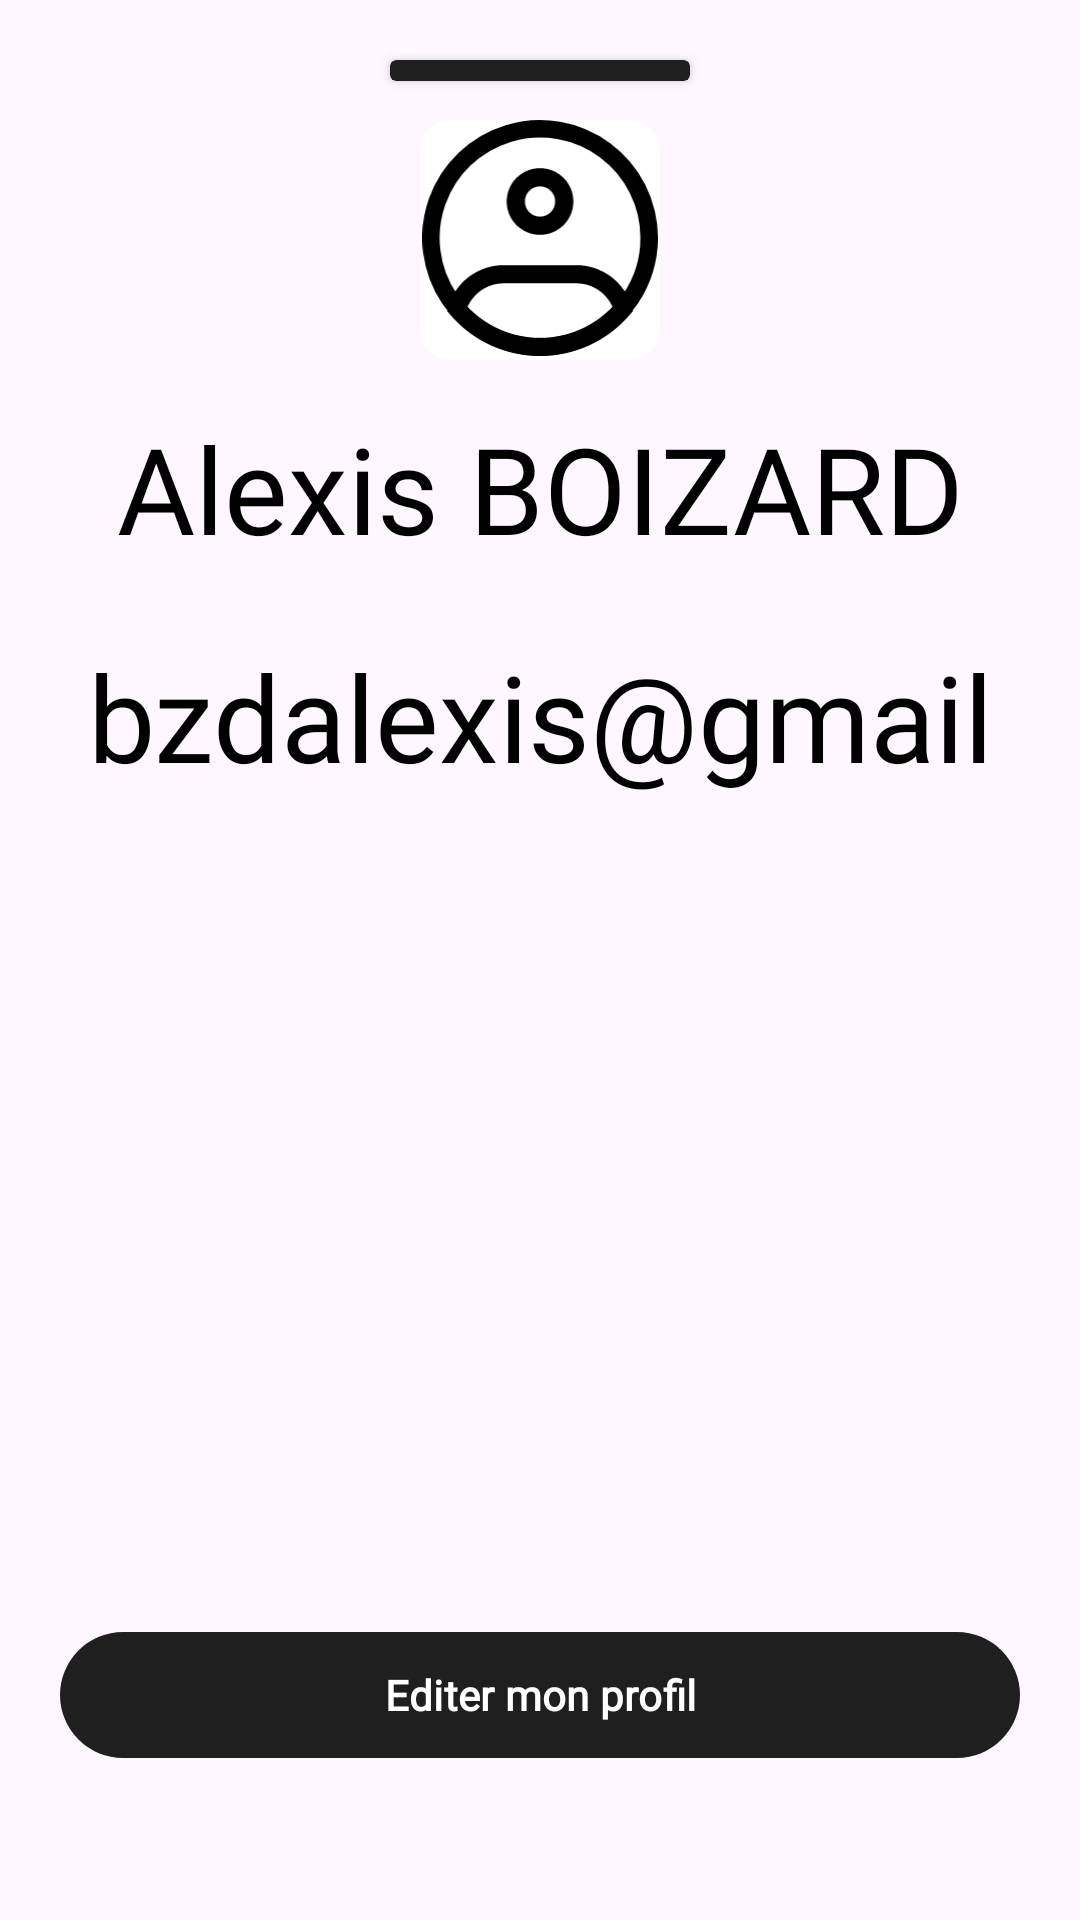

Locate icon controls on the screen. Image size 1080x1920, boxes as (x1, y1, x2, y2).
profile: (422, 120, 658, 356)
